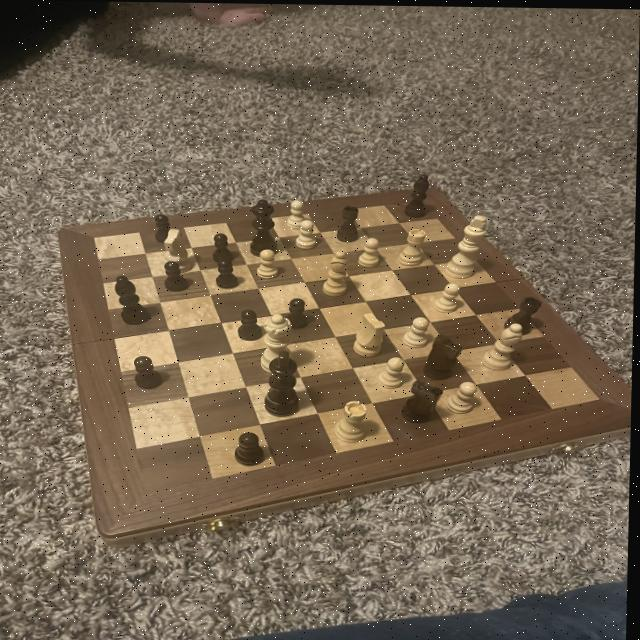bishop: (113, 273, 158, 328), (402, 168, 435, 221)
black-bishop: (262, 349, 308, 421)
black-king: (420, 331, 464, 380), (402, 377, 445, 426)
black-knight: (132, 354, 168, 391), (235, 429, 270, 467), (160, 258, 195, 293), (237, 307, 266, 342), (213, 257, 242, 291), (209, 230, 238, 263), (287, 296, 314, 329), (153, 212, 178, 243)
black-pawn: (248, 197, 282, 257)
black-queen: (503, 290, 545, 337), (335, 202, 364, 243)
black-rook: (480, 320, 528, 373), (323, 247, 355, 299)
white-bishop: (443, 211, 495, 280)
white-king: (351, 311, 391, 358), (160, 226, 196, 274)
white-knight: (446, 380, 484, 415), (378, 355, 413, 390), (431, 281, 467, 314), (401, 315, 434, 349), (255, 246, 282, 280), (358, 236, 386, 268), (294, 217, 321, 249), (287, 199, 309, 229)
white-pawn: (259, 309, 299, 377)
white-queen: (332, 399, 373, 444), (395, 226, 433, 269)
